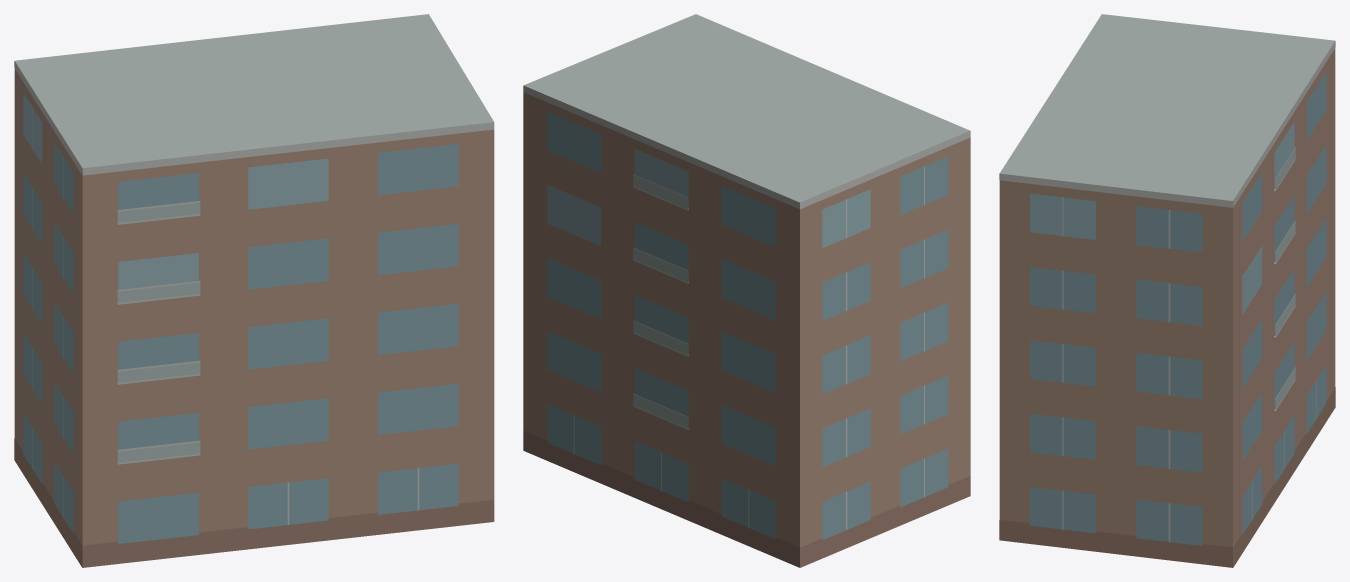
File: survey-upis-32529661.glb
3 views of the same model, side by side, from view 1: azimuth 30°, elevation 25°; view 2: azimuth 150°, elevation 25°; view 3: azimuth 270°, elevation 25° (orthographic). The views are drawn at different scales.
Parts seen in each view (by area): view 1: survey-upis-32529661.tmp; view 2: survey-upis-32529661.tmp; view 3: survey-upis-32529661.tmp.
Boxes of the visible parts, x1,y1,x2,y2 form: survey-upis-32529661.tmp: (14,14,494,567); survey-upis-32529661.tmp: (523,14,970,567); survey-upis-32529661.tmp: (999,14,1335,567).
Size of the model in its own units: 14.56 by 13.3 by 11.05.
